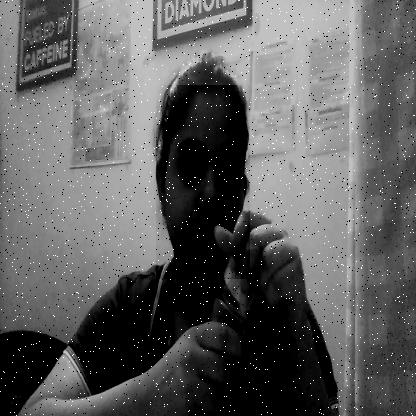Normal: (156, 85, 250, 279)
